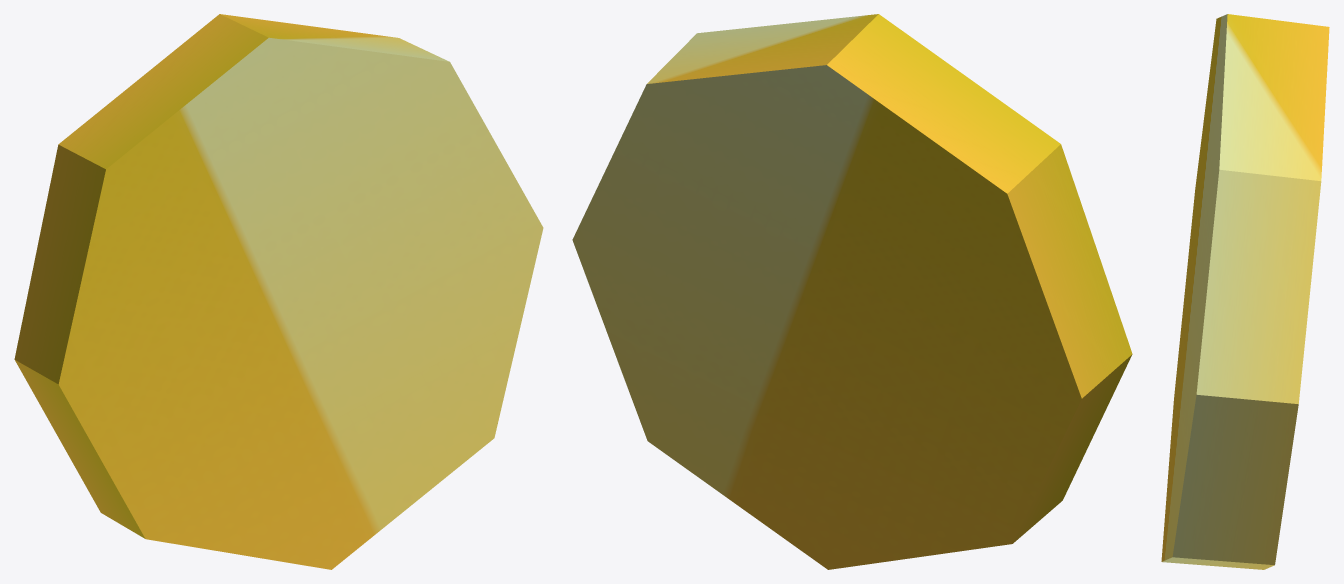
Rendered from coin.fbx.
3 renders of one model, left to right at view 1: azimuth 30°, elevation 25°; view 2: azimuth 150°, elevation 25°; view 3: azimuth 270°, elevation 25°, orthographic. The views are drawn at different scales.
Parts seen in each view (by area): view 1: Cylinder; view 2: Cylinder; view 3: Cylinder.
Part boxes in pixels (box(x1,y1,x2,y2)): Cylinder: box(14, 14, 543, 569); Cylinder: box(572, 14, 1132, 569); Cylinder: box(1161, 14, 1329, 569).
Size of the model in its own units: 132 by 136 by 38.45.
